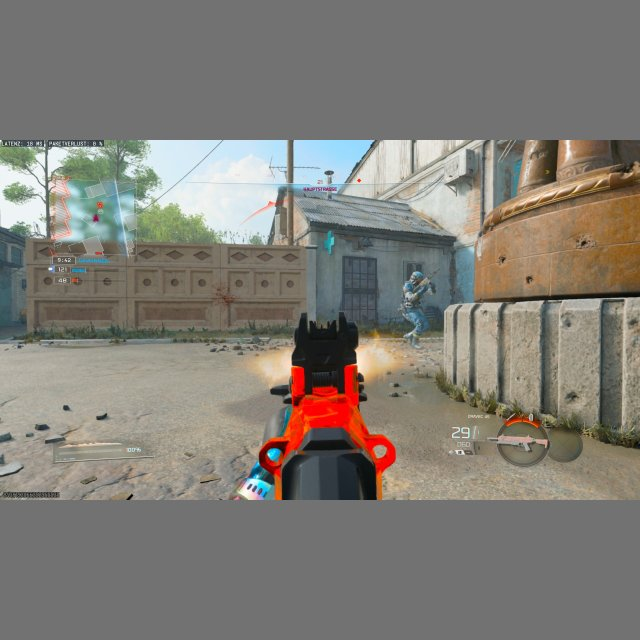head: (411, 271, 424, 283)
player: (401, 271, 435, 346)
